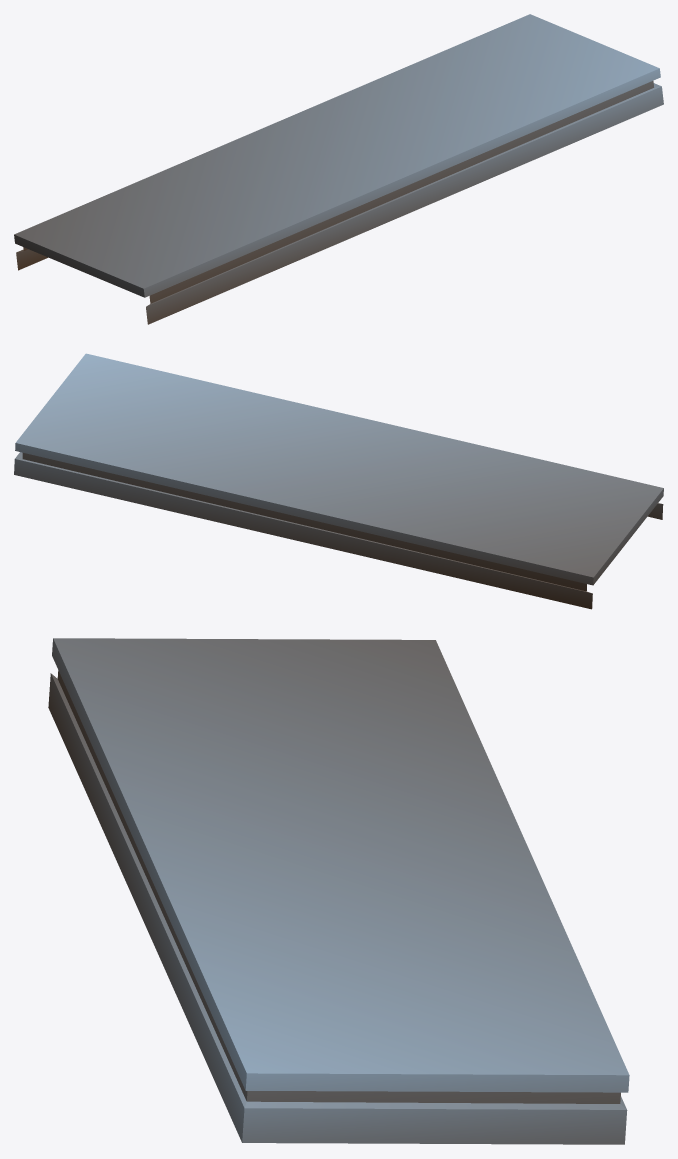
3 views of the same model, one above another, from view 1: azimuth 30°, elevation 25°; view 2: azimuth 150°, elevation 25°; view 3: azimuth 270°, elevation 25° (orthographic). The views are drawn at different scales.
Visible parts, largest first — view 1: Cube.060; view 2: Cube.060; view 3: Cube.060.
Boxes of the visible parts, bbox=[...] form: Cube.060: bbox=[14, 14, 663, 324]; Cube.060: bbox=[14, 353, 663, 609]; Cube.060: bbox=[48, 638, 629, 1144].
Size of the model in its own units: 30.79 by 4.62 by 13.89.
